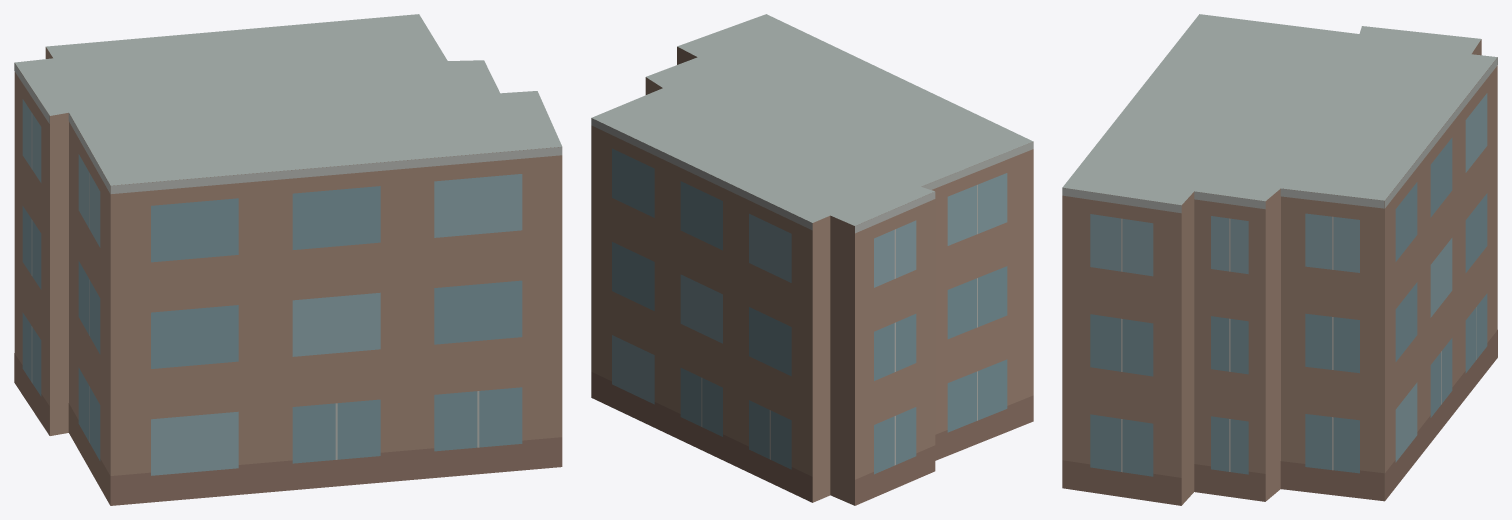
File: survey-upis-33032706.glb
3 renders of one model, left to right at view 1: azimuth 30°, elevation 25°; view 2: azimuth 150°, elevation 25°; view 3: azimuth 270°, elevation 25°, orthographic. The views are drawn at different scales.
Visible parts, largest first — view 1: survey-upis-33032706.tmp; view 2: survey-upis-33032706.tmp; view 3: survey-upis-33032706.tmp.
Part boxes in pixels (left/top/right/bottom): survey-upis-33032706.tmp: left=14, top=14, right=562, bottom=505; survey-upis-33032706.tmp: left=591, top=14, right=1033, bottom=505; survey-upis-33032706.tmp: left=1062, top=14, right=1497, bottom=505.
Size of the model in its own units: 12.5 by 9.15 by 12.02.
